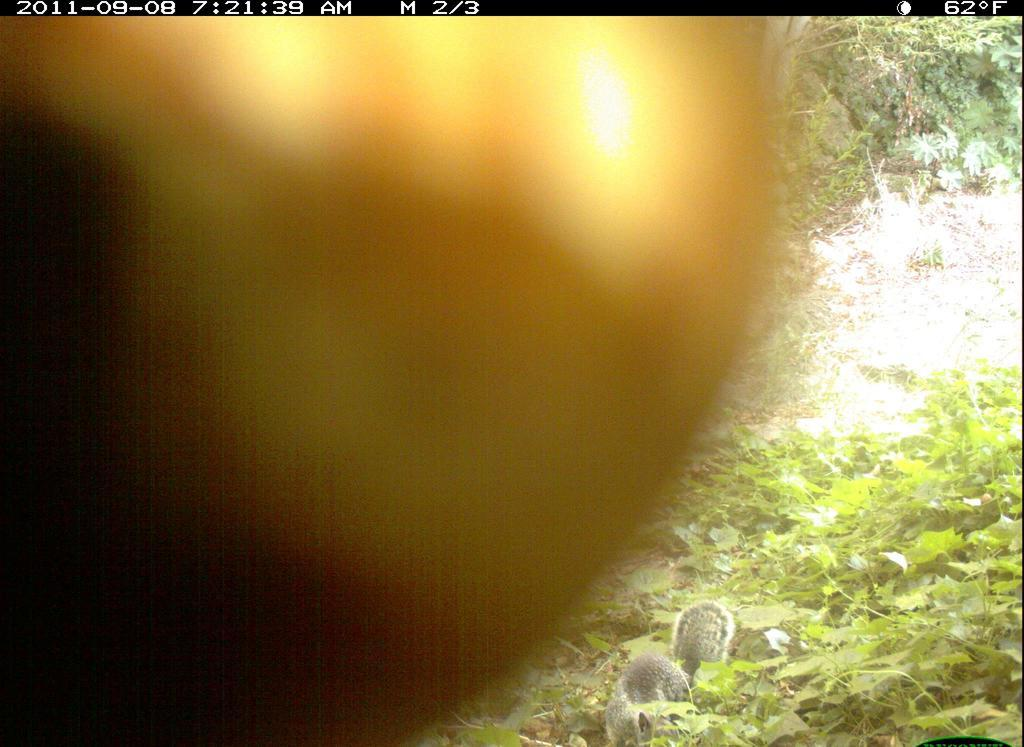squirrel: (598, 579, 737, 747)
